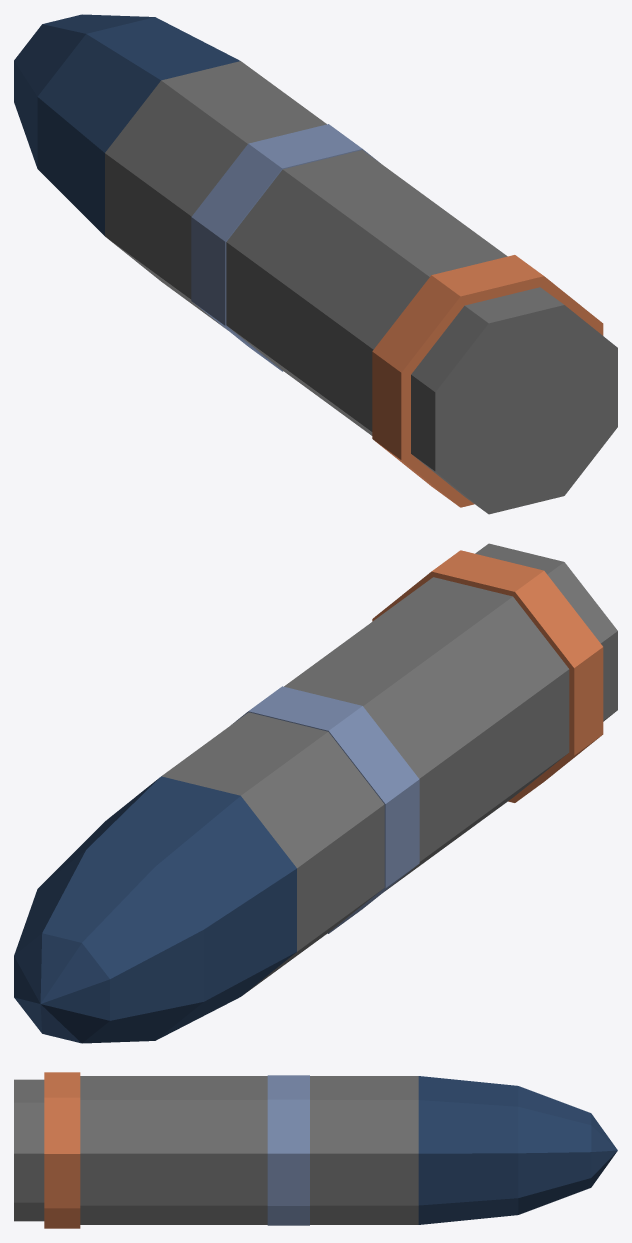
The model's file is ce_ammo_artillery_anti_a.obj.
3 views of the same model, one above another, from view 1: azimuth 30°, elevation 25°; view 2: azimuth 150°, elevation 25°; view 3: azimuth 270°, elevation 25° (orthographic). The views are drawn at different scales.
Visible parts, largest first — view 1: ce_ammo_artillery_anti_a_2, ce_ammo_artillery_anti_a_0, ce_ammo_artillery_anti_a_4, ce_ammo_artillery_anti_a_5, ce_ammo_artillery_anti_a_1, ce_ammo_artillery_anti_a_3, ce_ammo_artillery_anti_a_6; view 2: ce_ammo_artillery_anti_a_2, ce_ammo_artillery_anti_a_5, ce_ammo_artillery_anti_a_4, ce_ammo_artillery_anti_a_6, ce_ammo_artillery_anti_a_1, ce_ammo_artillery_anti_a_3, ce_ammo_artillery_anti_a_7, ce_ammo_artillery_anti_a_0; view 3: ce_ammo_artillery_anti_a_2, ce_ammo_artillery_anti_a_4, ce_ammo_artillery_anti_a_5, ce_ammo_artillery_anti_a_6, ce_ammo_artillery_anti_a_3, ce_ammo_artillery_anti_a_1, ce_ammo_artillery_anti_a_0, ce_ammo_artillery_anti_a_7.
Part boxes in pixels (x1,y1,x2,y2): ce_ammo_artillery_anti_a_2: [226, 150, 507, 435]; ce_ammo_artillery_anti_a_0: [411, 287, 617, 514]; ce_ammo_artillery_anti_a_4: [105, 61, 326, 328]; ce_ammo_artillery_anti_a_5: [37, 17, 239, 235]; ce_ammo_artillery_anti_a_1: [372, 255, 603, 507]; ce_ammo_artillery_anti_a_3: [191, 124, 380, 371]; ce_ammo_artillery_anti_a_6: [14, 14, 154, 168]; ce_ammo_artillery_anti_a_2: [284, 577, 569, 890]; ce_ammo_artillery_anti_a_5: [39, 776, 296, 1040]; ce_ammo_artillery_anti_a_4: [161, 712, 384, 994]; ce_ammo_artillery_anti_a_6: [14, 850, 203, 1043]; ce_ammo_artillery_anti_a_1: [372, 550, 603, 802]; ce_ammo_artillery_anti_a_3: [231, 686, 419, 933]; ce_ammo_artillery_anti_a_7: [14, 933, 109, 1043]; ce_ammo_artillery_anti_a_0: [475, 543, 617, 721]; ce_ammo_artillery_anti_a_2: [80, 1076, 267, 1224]; ce_ammo_artillery_anti_a_4: [310, 1076, 418, 1224]; ce_ammo_artillery_anti_a_5: [418, 1076, 518, 1224]; ce_ammo_artillery_anti_a_6: [518, 1086, 591, 1214]; ce_ammo_artillery_anti_a_3: [267, 1075, 309, 1225]; ce_ammo_artillery_anti_a_1: [44, 1072, 80, 1228]; ce_ammo_artillery_anti_a_0: [14, 1079, 44, 1221]; ce_ammo_artillery_anti_a_7: [591, 1113, 617, 1187].
Bounding box in the file's own units: 0.2134 × 0.2134 × 0.89.
